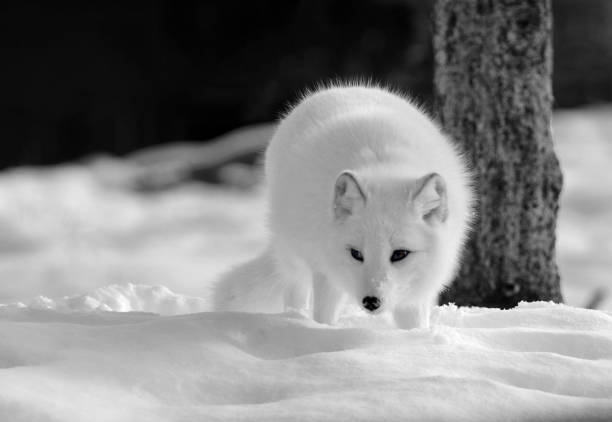arcticfox: (326, 184, 431, 325)
